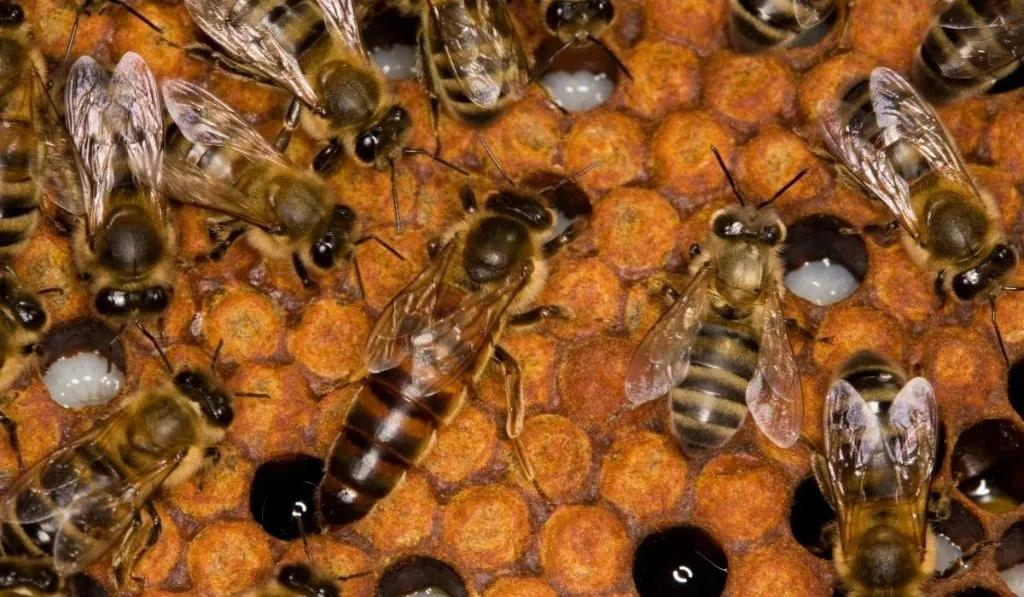Queen-Bee: (317, 187, 578, 524)
worker-bee: (818, 67, 1023, 359), (624, 146, 806, 450), (0, 359, 244, 582), (159, 79, 403, 290), (182, 0, 456, 178), (49, 53, 176, 326), (813, 350, 938, 596)
